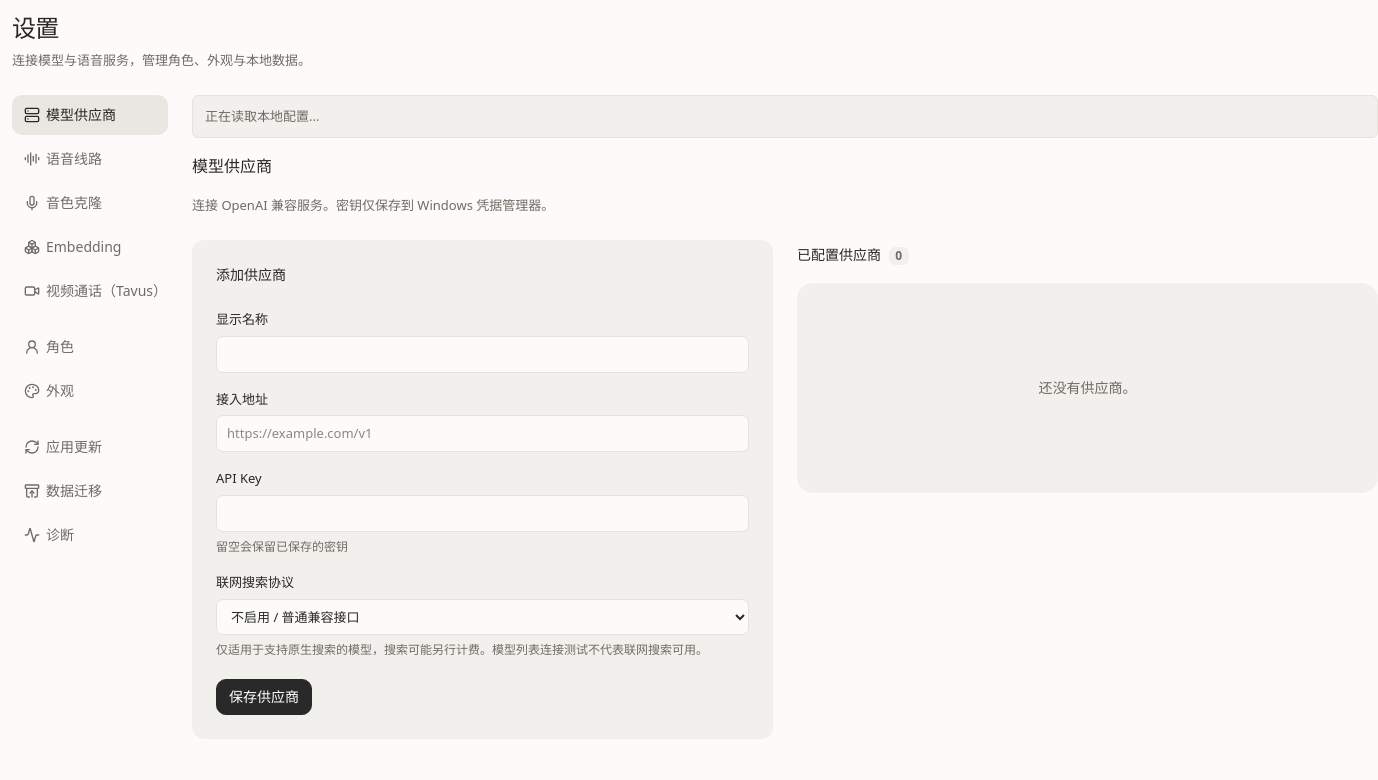
Scenario: SettingsPage › loads the latency summary only after the diagnostics category is opened
The image size is (1378, 780).
Click the button "诊断".
click(90, 535)  # box [12,515,168,555]
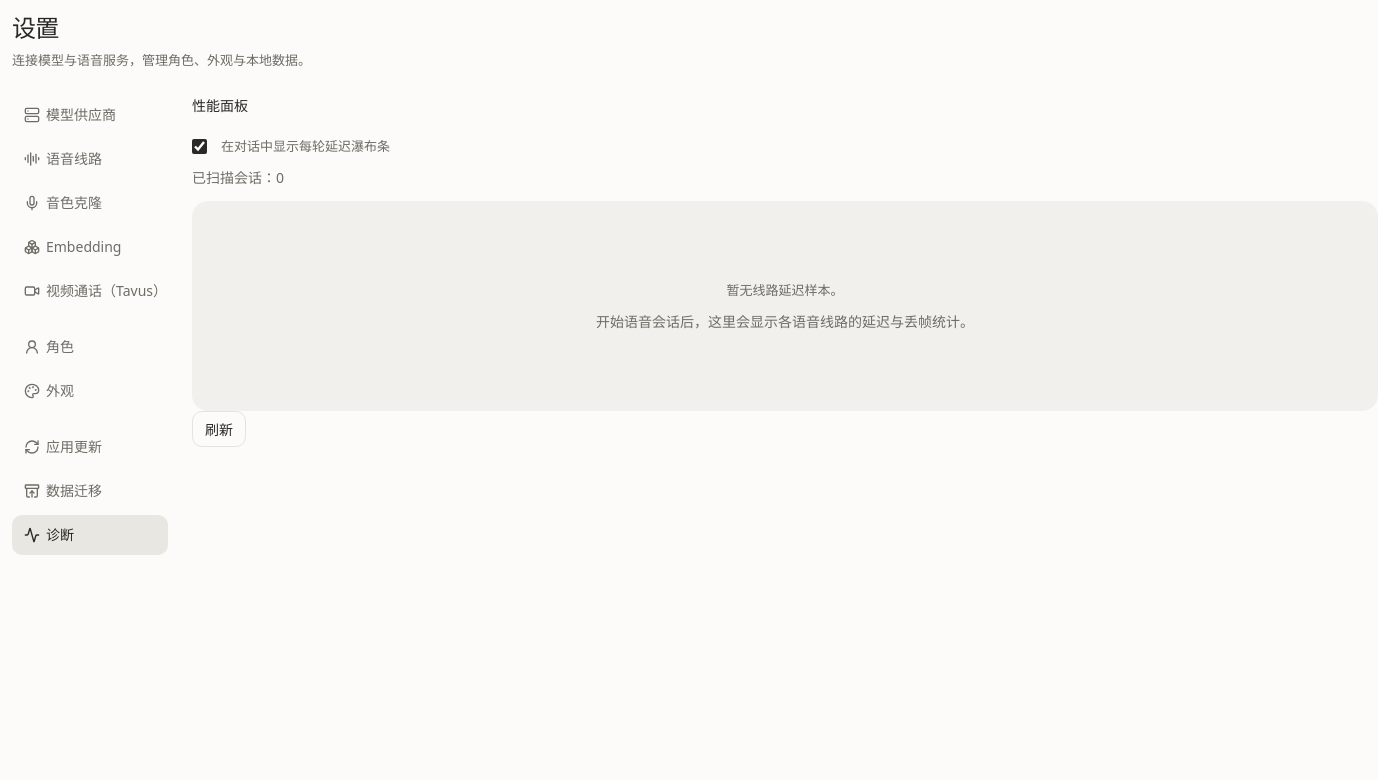
Result: the heading "性能面板" is shown at [192,96,248,115]
Result: the text "暂无线路延迟样本。" is shown at [726,280,844,301]
